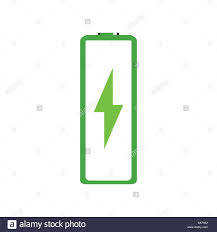charging sign: (75, 28, 143, 186)
